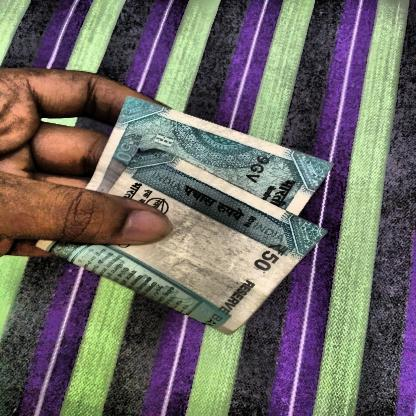Rs50: (237, 236, 300, 286)
